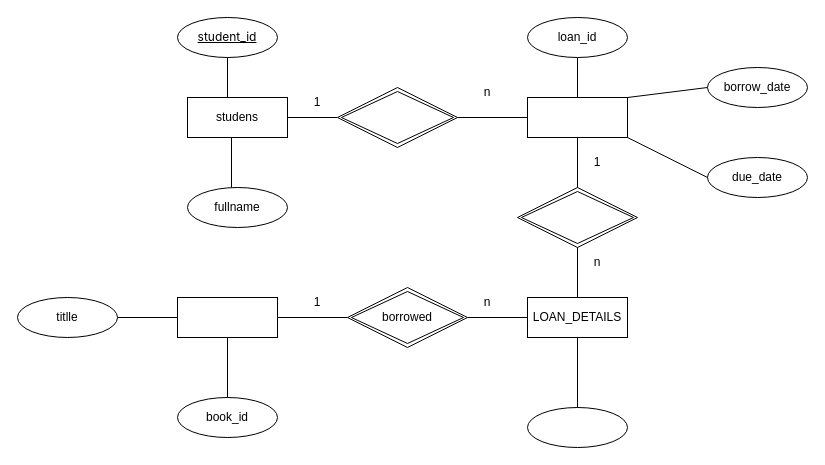
Some shapes in this 825 by 465 pixel diagram are drawn without their labels. Each missing label, with the centre of its shape:
books: point 227,317
detail: point 577,217
establish: point 397,117
loan_cart: point 577,117
status: point 577,427
